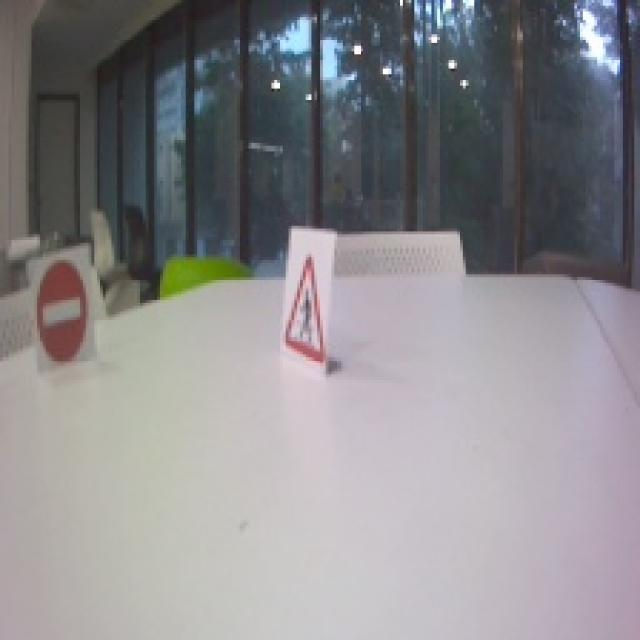DoNotEnterSign: (38, 260, 89, 364)
